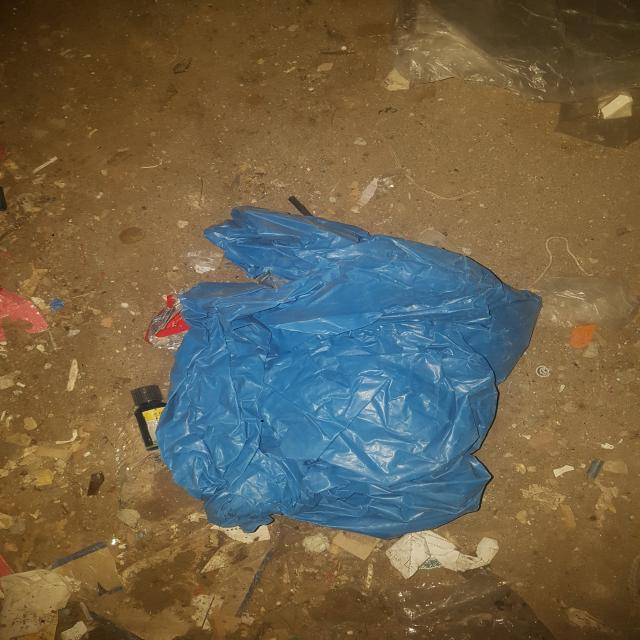general: (156, 203, 550, 536)
